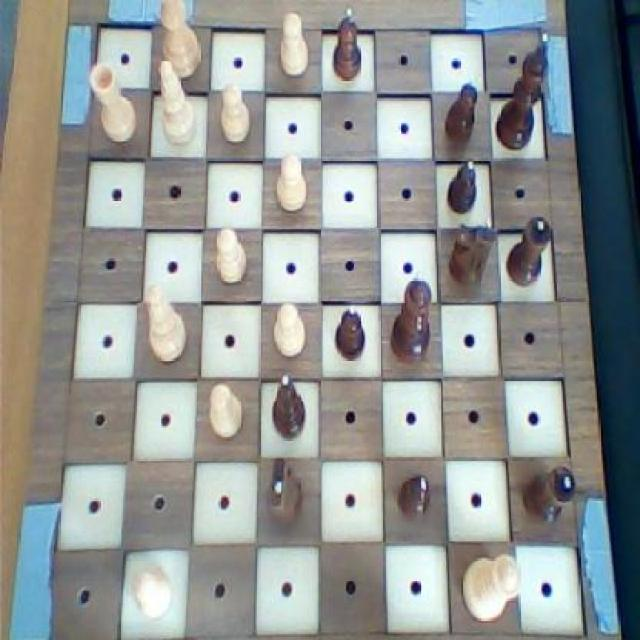bishop: (271, 371, 310, 449)
black-bishop: (494, 29, 555, 154)
black-king: (446, 214, 502, 293), (261, 454, 307, 530)
black-knight: (443, 75, 480, 151), (331, 6, 366, 86), (392, 468, 435, 524), (446, 157, 479, 220), (334, 302, 368, 361)
black-pawn: (389, 268, 435, 368)
black-queen: (518, 462, 580, 530), (505, 214, 553, 290)
black-rook: (154, 58, 201, 151), (145, 283, 190, 366)
white-bishop: (152, 0, 205, 82)
white-knight: (274, 9, 310, 84), (132, 564, 177, 624), (206, 378, 244, 444), (272, 149, 308, 216), (269, 300, 307, 362), (214, 223, 248, 291), (218, 82, 252, 148)
white-pawn: (460, 549, 525, 625)
white-queen: (86, 57, 139, 148)
